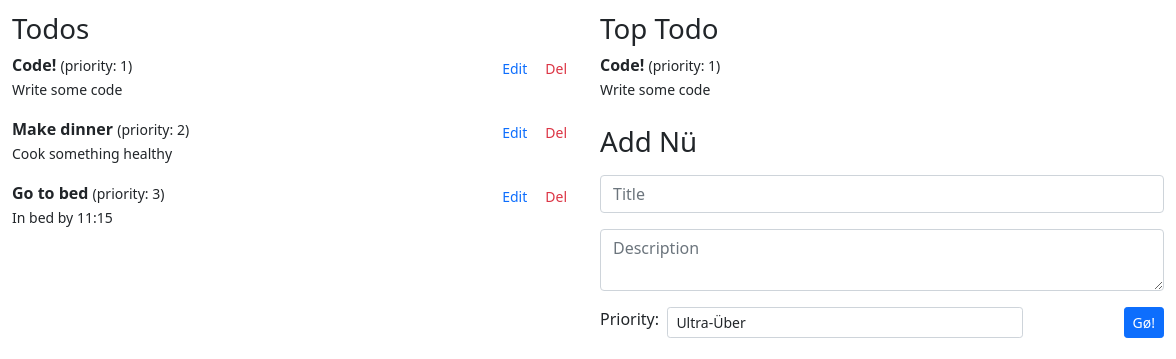
TodoApp › should open up edit form and hide clicked todo after clicking edit.
Click the 1st button "Edit".
click(515, 69)  # box [493,53,536,84]
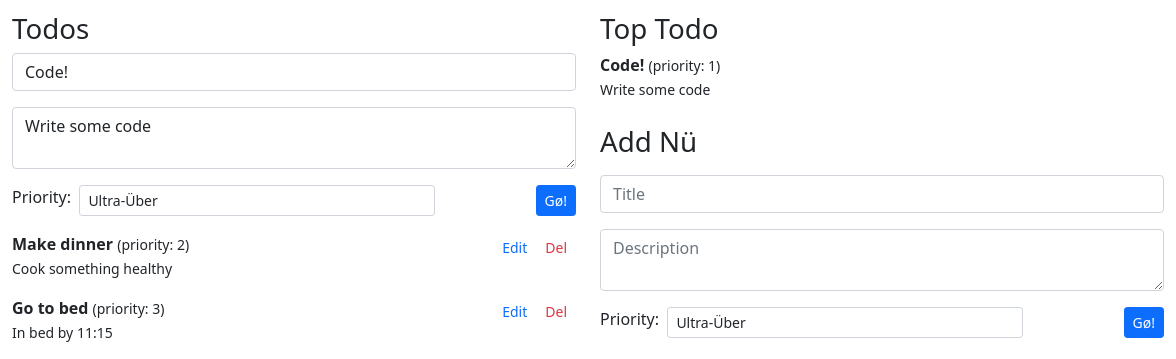
Expected: the number of forms with class "NewTodoForm" is 2, [12,53,576,216]; [600,174,1164,338]
